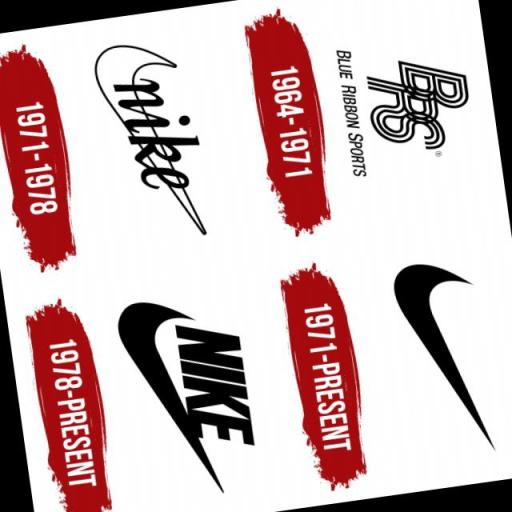Nike: (391, 257, 499, 462)
